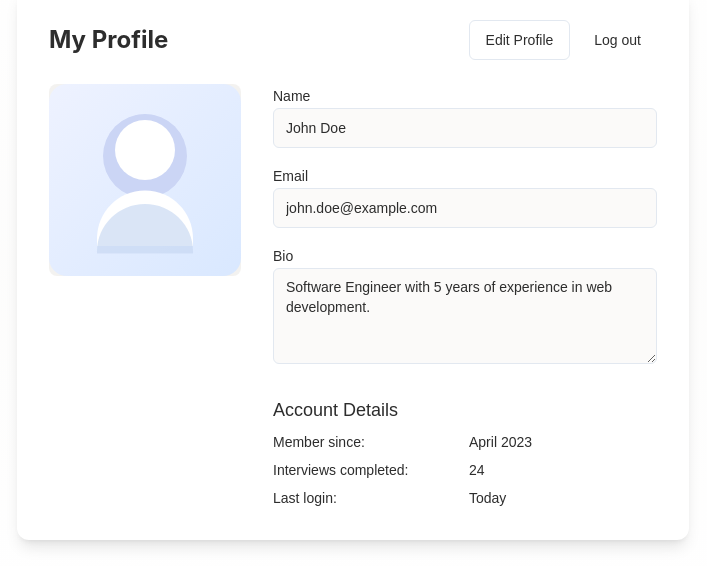
it: Profile Page Integration Tests › Logout Functionality › should hide logout button in edit mode
Expected: the button "Log out" is shown, [578,20,657,60]
// Hidden in edit mode
What coordinates should you click on to do the following:
click the button "Edit Profile"
I would click on:
 (519, 40)
Its box is [469,20,570,60].
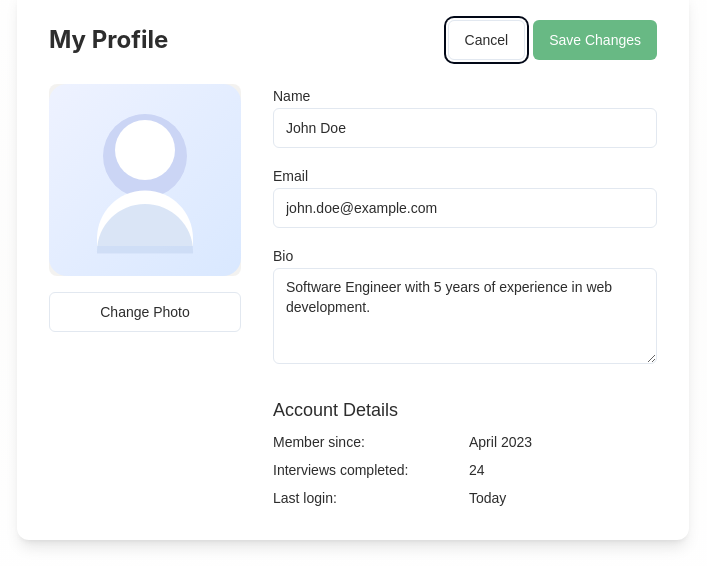
Expected: the button "Log out" is gone
